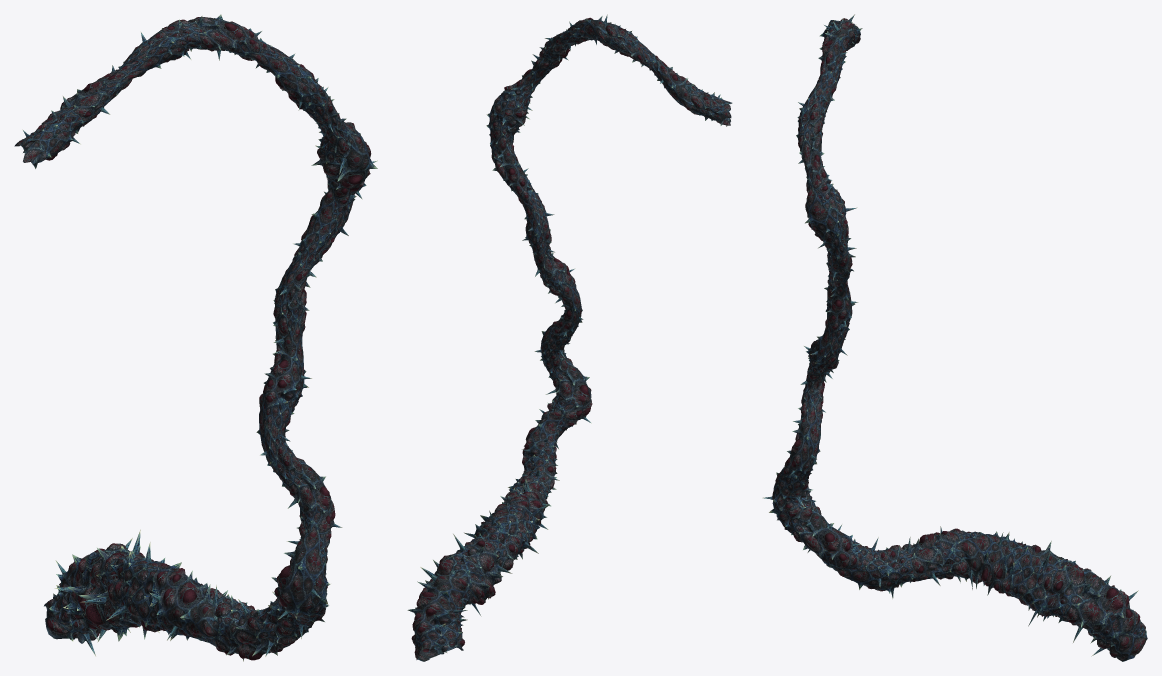
File: backup.fbx
The picture shows the model from 3 angles, left to right: view 1: azimuth 30°, elevation 25°; view 2: azimuth 150°, elevation 25°; view 3: azimuth 270°, elevation 25°; orthographic projection. The views are drawn at different scales.
Visible parts, largest first — view 1: LODGroup_1_MainMesh_1_SubMesh_1, LODGroup_1_MainMesh_1_SubMesh_2; view 2: LODGroup_1_MainMesh_1_SubMesh_1, LODGroup_1_MainMesh_1_SubMesh_2; view 3: LODGroup_1_MainMesh_1_SubMesh_1, LODGroup_1_MainMesh_1_SubMesh_2.
Part boxes in pixels (box(x1,y1,x2,y2)): LODGroup_1_MainMesh_1_SubMesh_1: box(21, 16, 377, 661); LODGroup_1_MainMesh_1_SubMesh_2: box(14, 14, 377, 655); LODGroup_1_MainMesh_1_SubMesh_1: box(407, 14, 730, 661); LODGroup_1_MainMesh_1_SubMesh_2: box(425, 19, 732, 655); LODGroup_1_MainMesh_1_SubMesh_1: box(762, 14, 1147, 661); LODGroup_1_MainMesh_1_SubMesh_2: box(769, 18, 1121, 650).
Size of the model in its own units: 1700 by 3592 by 2050.
